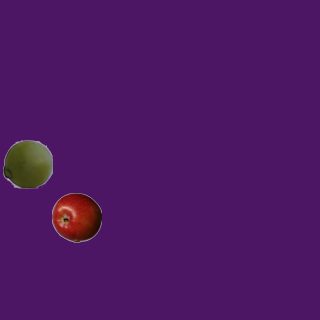Apple Braeburn: (51, 192, 101, 242)
Grape White 4: (2, 138, 52, 188)
